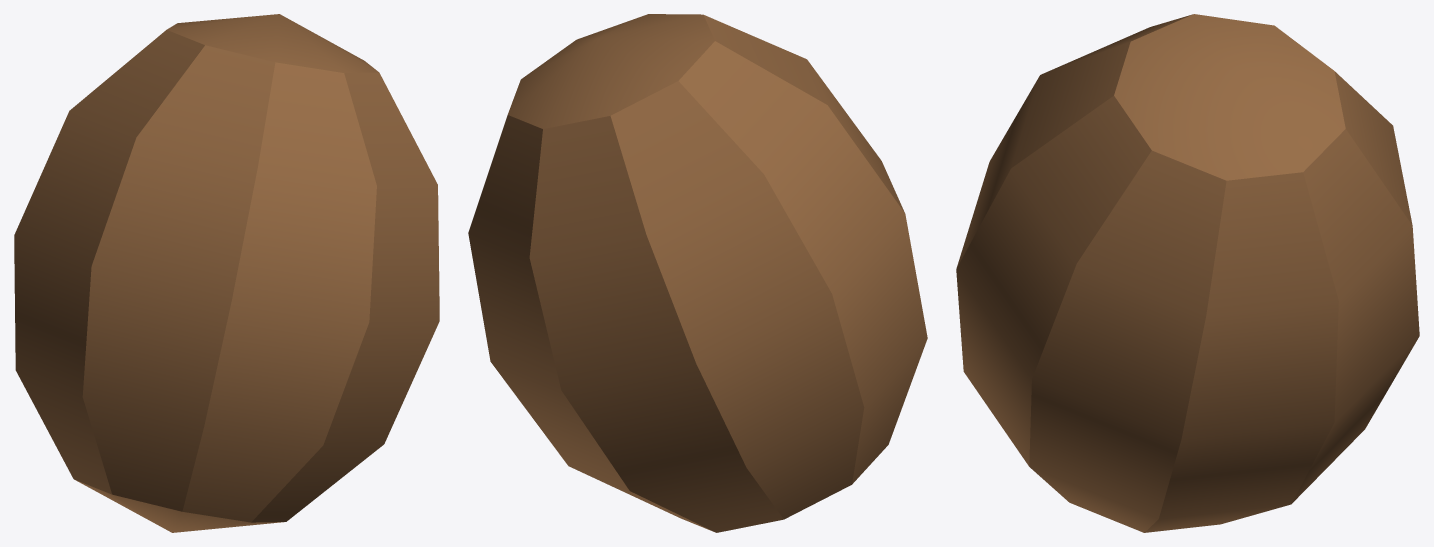
The model's file is coconut_004.glb.
3 renders of one model, left to right at view 1: azimuth 30°, elevation 25°; view 2: azimuth 150°, elevation 25°; view 3: azimuth 270°, elevation 25°, orthographic. The views are drawn at different scales.
Parts seen in each view (by area): view 1: coconut.004; view 2: coconut.004; view 3: coconut.004.
Boxes of the visible parts, x1,y1,x2,y2 form: coconut.004: (14,14,439,532); coconut.004: (468,14,927,532); coconut.004: (956,14,1419,532).
Size of the model in its own units: 0.2291 by 0.2658 by 0.2236.
1 material, 1 textured.
